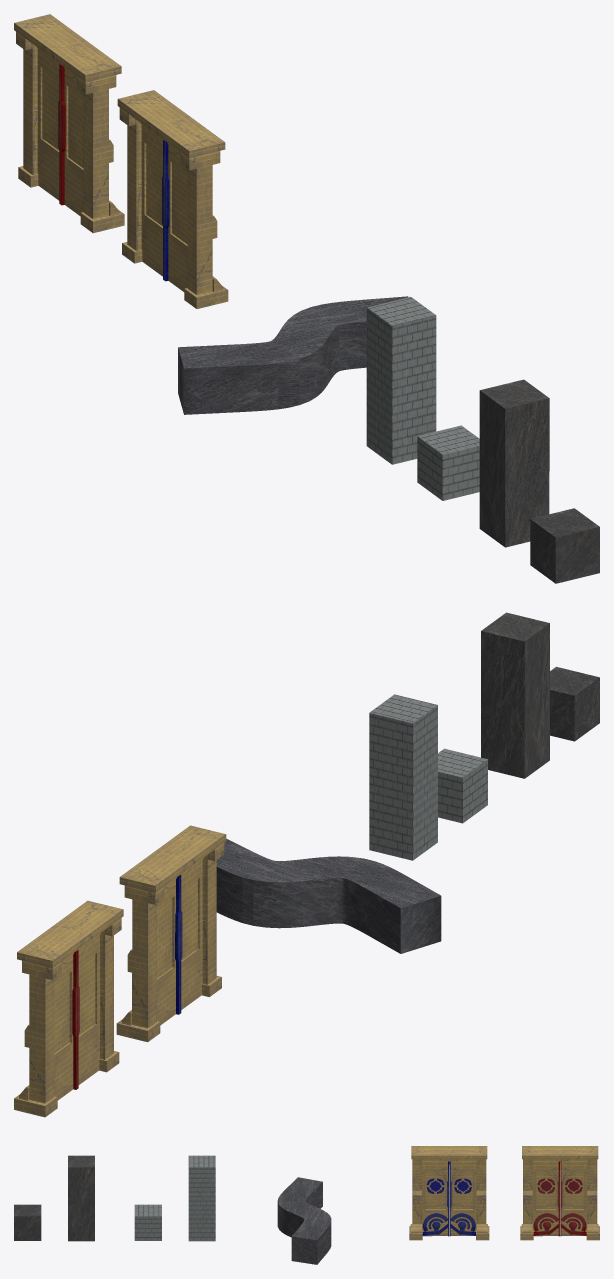
The model's file is models0619v003.fbx.
3 views of the same model, one above another, from view 1: azimuth 30°, elevation 25°; view 2: azimuth 150°, elevation 25°; view 3: azimuth 270°, elevation 25° (orthographic). The views are drawn at different scales.
Visible parts, largest first — view 1: door, door_1, wave_road, brick_wall, rock_wall, rock_floor, brick_floor; view 2: door, door_1, wave_road, brick_wall, rock_wall, brick_floor, rock_floor; view 3: door, door_1, wave_road, brick_wall, rock_wall, brick_floor, rock_floor.
Boxes of the visible parts, <box> form: door: <box>117,90,228,308</box>; door_1: <box>14,14,124,233</box>; wave_road: <box>178,296,408,414</box>; brick_wall: <box>366,296,436,464</box>; rock_wall: <box>479,379,549,547</box>; rock_floor: <box>530,508,599,583</box>; brick_floor: <box>417,425,479,500</box>; door: <box>116,825,226,1042</box>; door_1: <box>14,900,123,1117</box>; wave_road: <box>216,838,441,953</box>; brick_wall: <box>369,694,437,860</box>; rock_wall: <box>481,612,549,778</box>; brick_floor: <box>438,748,487,823</box>; rock_floor: <box>550,666,599,741</box>; door: <box>409,1146,489,1240</box>; door_1: <box>520,1146,599,1240</box>; wave_road: <box>277,1177,331,1264</box>; brick_wall: <box>188,1155,215,1241</box>; rock_wall: <box>68,1155,94,1241</box>; brick_floor: <box>134,1204,161,1240</box>; rock_floor: <box>14,1204,41,1240</box>.
Bounding box in the file's own units: 1096 × 690 × 4305.
